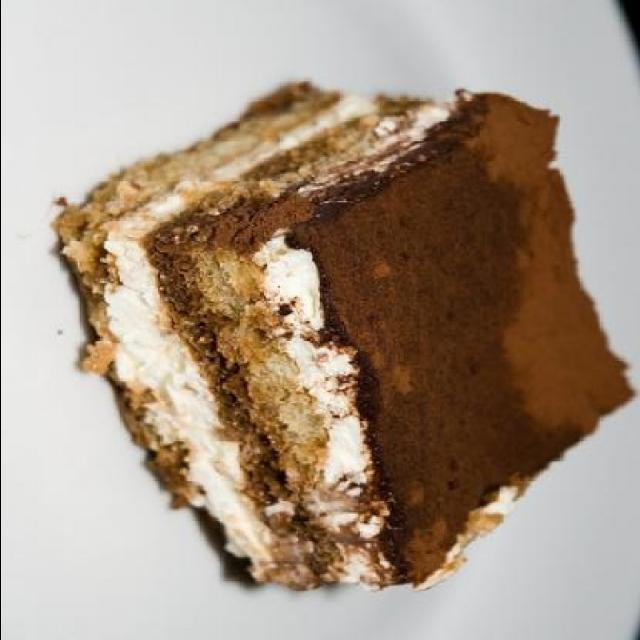Tiramisu: (89, 70, 616, 588)
